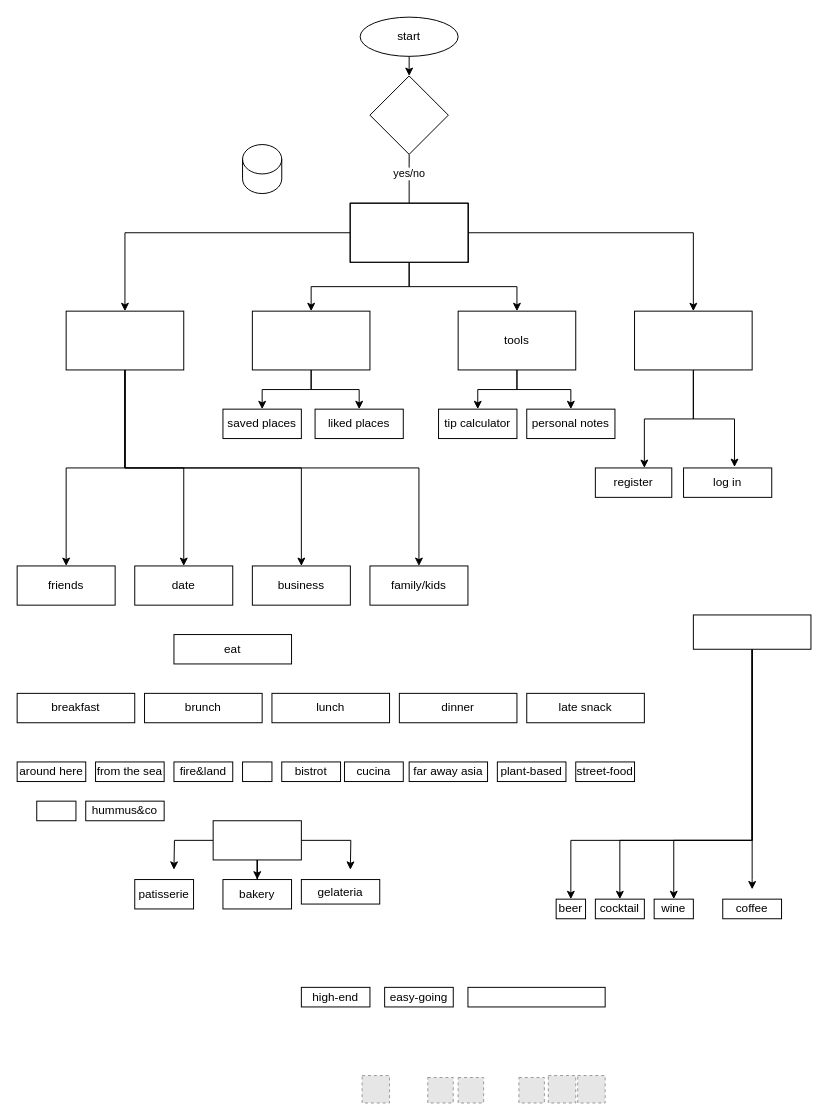
The diagram is 828 pixels wide and 1120 high, and some of its shapes have lost their labels. Grey dashed boxes stand in for pictures. The centre of each missing label's shape, as x and y in pixels:
bites: the point at 257,771
drink: the point at 751,631
enable location access: the point at 408,114
filter: the point at 124,340
fusion: the point at 56,810
main menu: the point at 408,232
profile: the point at 693,340
save places: the point at 310,340
something in between: the point at 536,996
sweet tooth: the point at 256,840
